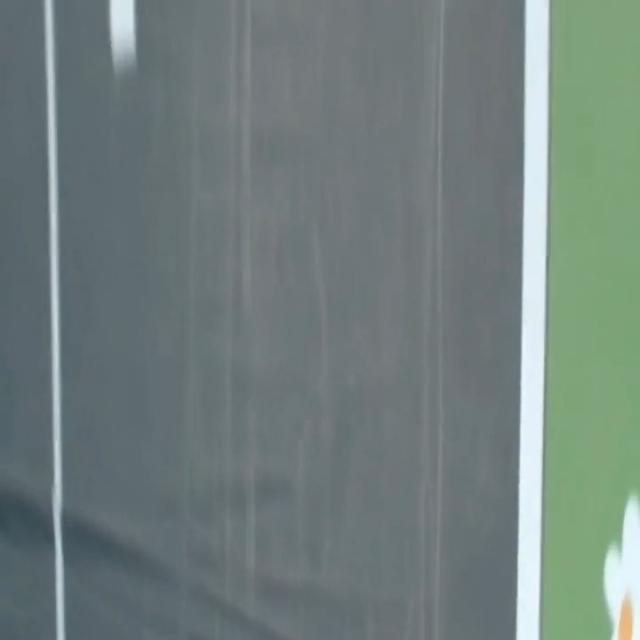center: (109, 0, 135, 73)
right: (516, 0, 549, 639)
